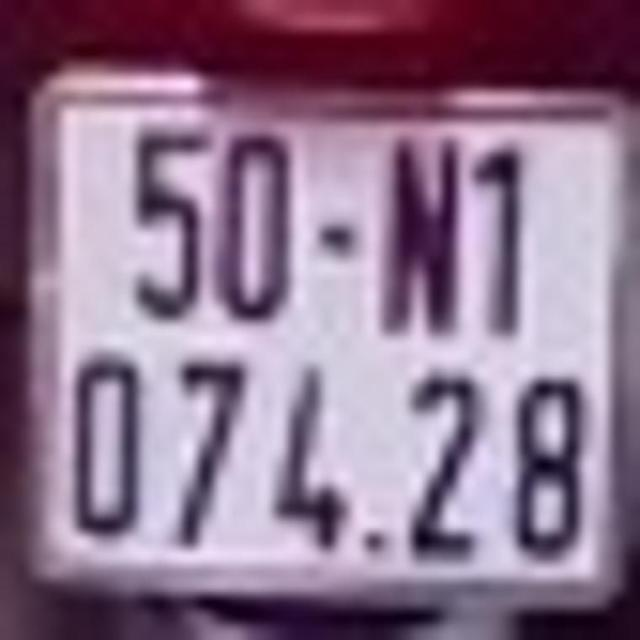0: (69, 343, 143, 538), (218, 129, 292, 321)
1: (474, 146, 523, 336)
2: (408, 371, 479, 559)
4: (274, 360, 350, 553)
5: (129, 122, 208, 321)
7: (170, 354, 247, 549)
8: (516, 378, 582, 560)
N: (385, 138, 461, 338)
